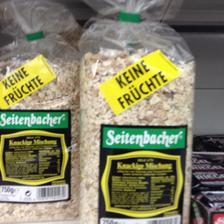Cerealien: (78, 18, 194, 222), (0, 32, 80, 224)
